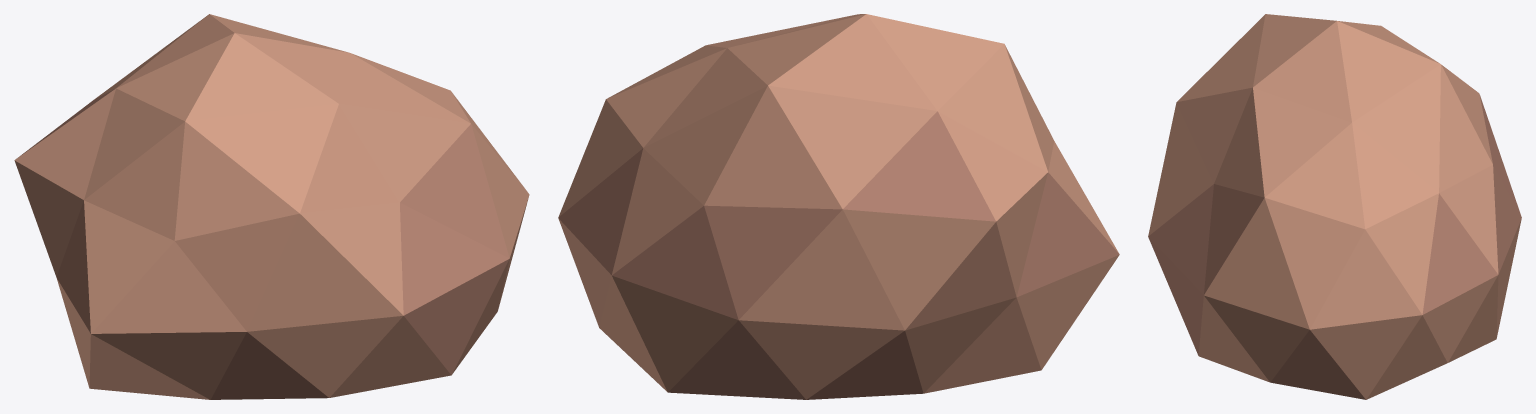
Rendered from Kit_Rock_0.fbx.
3 renders of one model, left to right at view 1: azimuth 30°, elevation 25°; view 2: azimuth 150°, elevation 25°; view 3: azimuth 270°, elevation 25°, orthographic. The views are drawn at different scales.
Parts seen in each view (by area): view 1: Kit_Rock_0; view 2: Kit_Rock_0; view 3: Kit_Rock_0.
Boxes of the visible parts, x1=… form: Kit_Rock_0: x1=14, y1=14, x2=529, y2=399; Kit_Rock_0: x1=558, y1=14, x2=1119, y2=399; Kit_Rock_0: x1=1148, y1=14, x2=1521, y2=399.
Bounding box in the file's own units: 1.07 × 0.69 × 0.8439.
